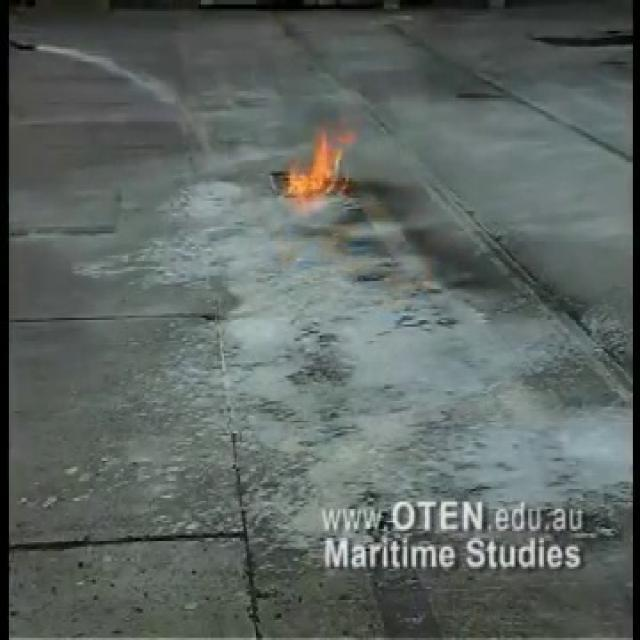Fire: (279, 109, 361, 209)
